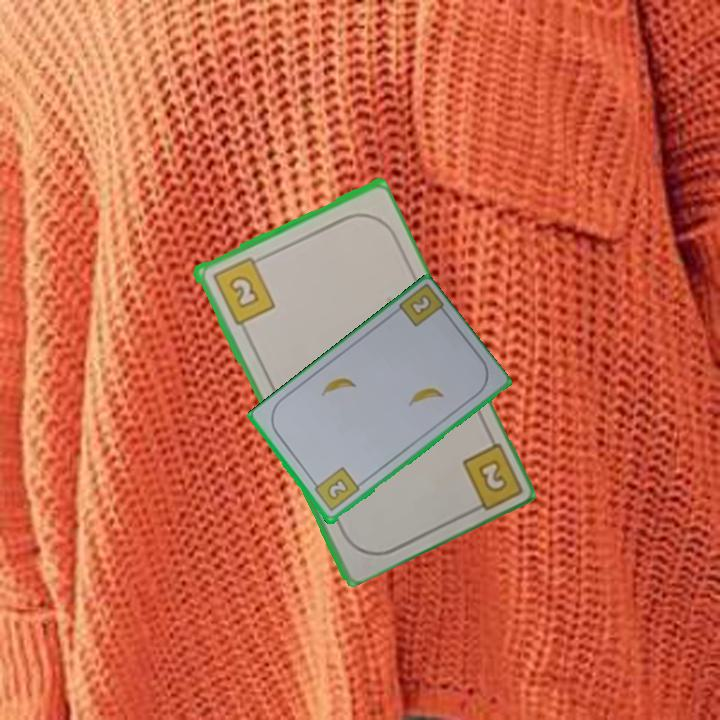2b: (208, 252, 278, 328), (458, 437, 522, 517), (309, 464, 362, 514), (408, 293, 432, 316)
